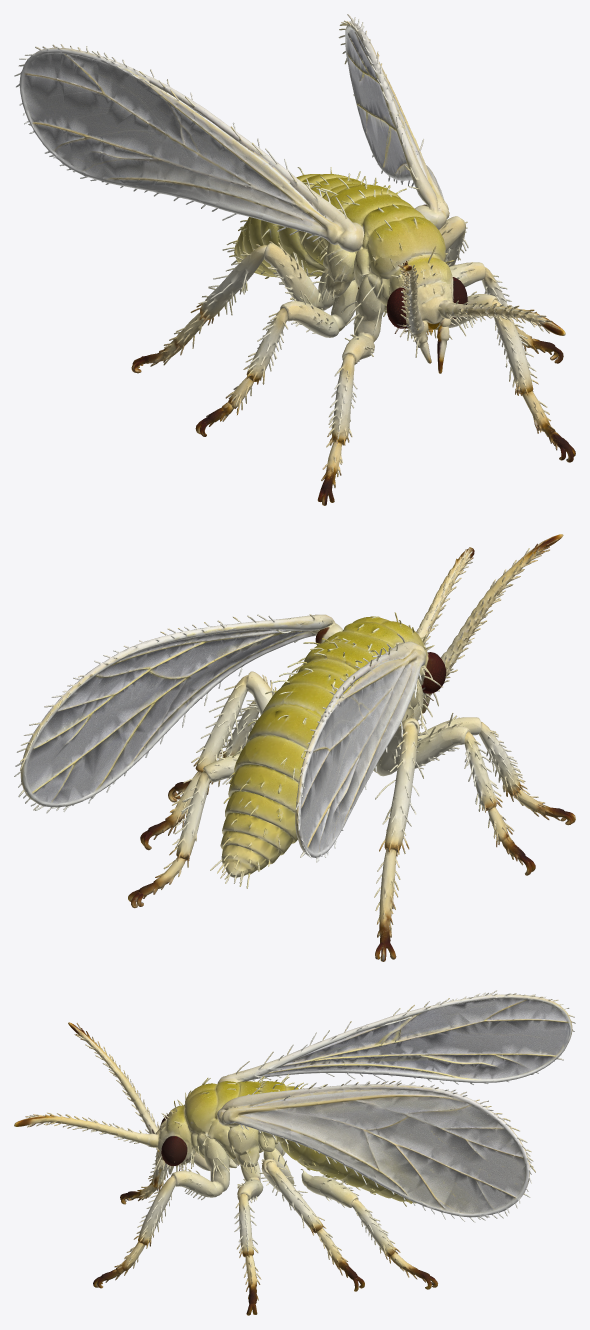
Rendered from whitefly-blender.glb.
3 renders of one model, top to bottom at view 1: azimuth 30°, elevation 25°; view 2: azimuth 150°, elevation 25°; view 3: azimuth 270°, elevation 25°, orthographic. The views are drawn at different scales.
Visible parts, largest first — view 1: Mesh_0; view 2: Mesh_0; view 3: Mesh_0.
Part boxes in pixels (<box>): Mesh_0: <box>14,14,575,505</box>; Mesh_0: <box>14,534,575,961</box>; Mesh_0: <box>14,990,575,1315</box>.
Bounding box in the file's own units: 1.11 × 0.806 × 1.91.
1 material, 1 textured.
